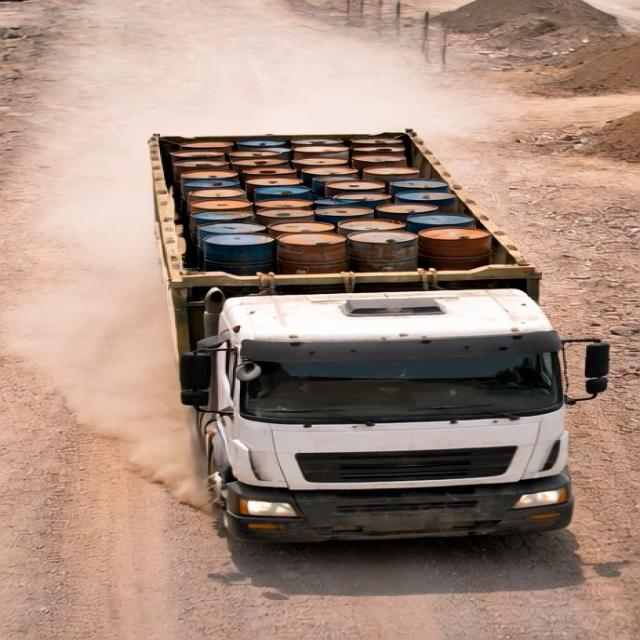Box: (110, 128, 570, 288)
Truck: (129, 90, 619, 557)
